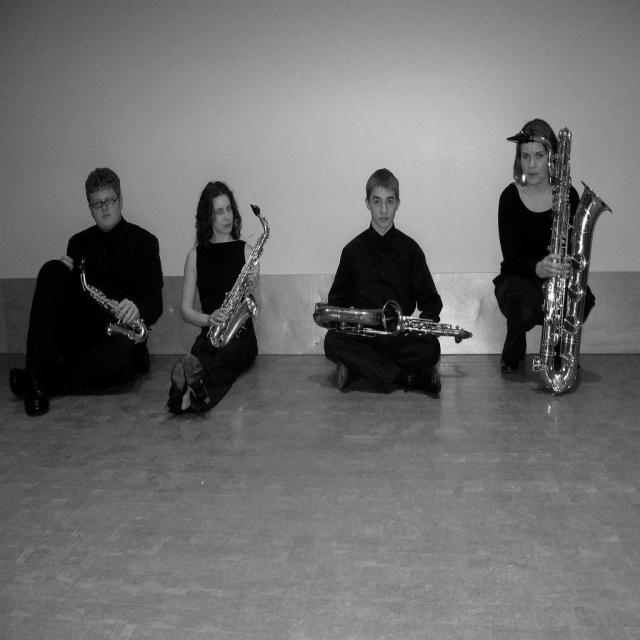saxophone: (503, 120, 614, 420), (206, 204, 275, 348), (310, 300, 476, 344), (74, 256, 152, 345)
